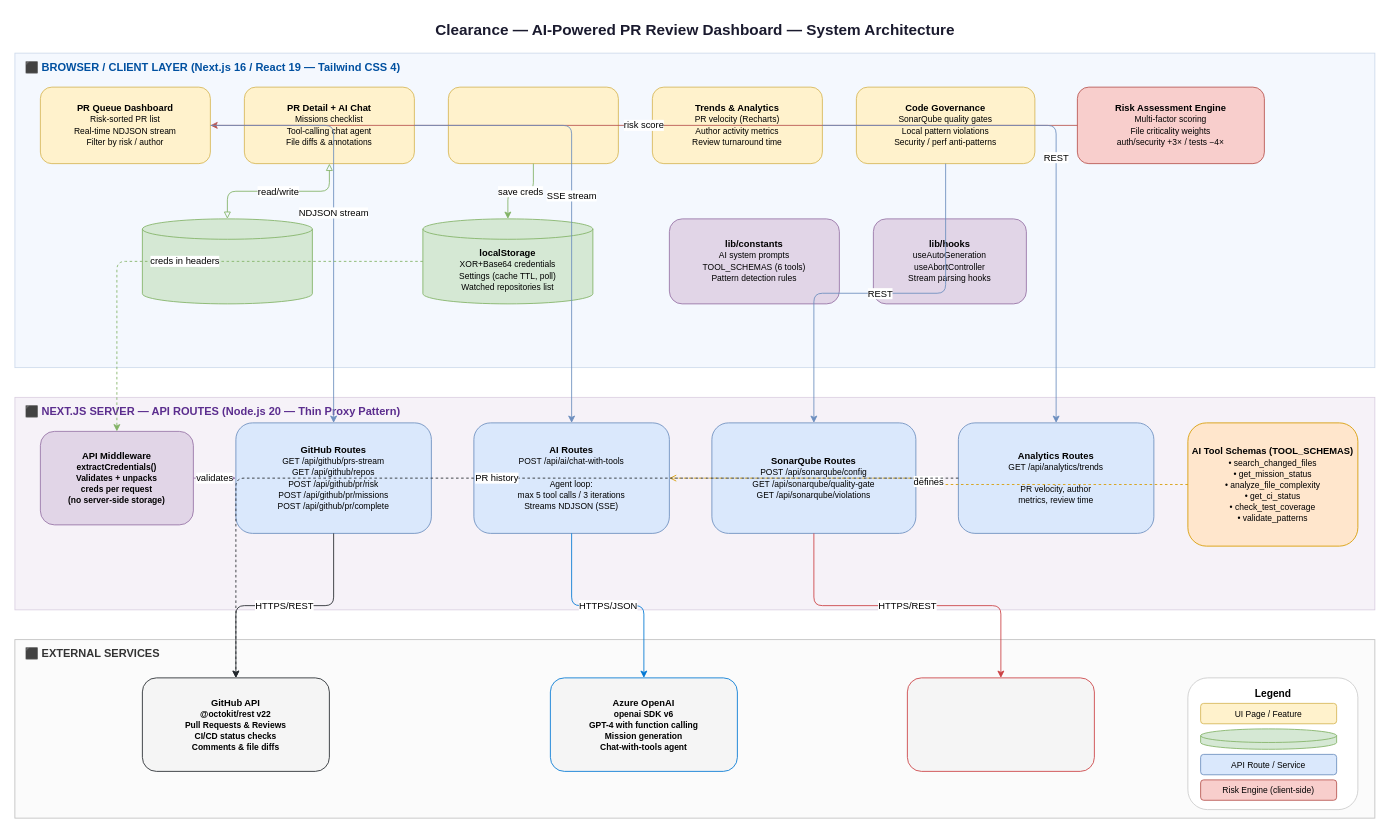
The diagram is 1390 pixels wide and 833 high, and some of its shapes have lost their labels. The shapes that lost their labels are listed below. From the top down, each one's centre as x and y in pixels, then its label:
At (x=533, y=125): "Settings Page GitHub PAT input Azure OpenAI credentials SonarQube token".
At (x=227, y=261): "IndexedDB AI conversations Review missions + tasks Mission cache (per PR+repo)".
At (x=1000, y=724): "SonarQube REST API Quality gate status Code violations Coverage metrics".
At (x=1268, y=738): "Browser Storage".
